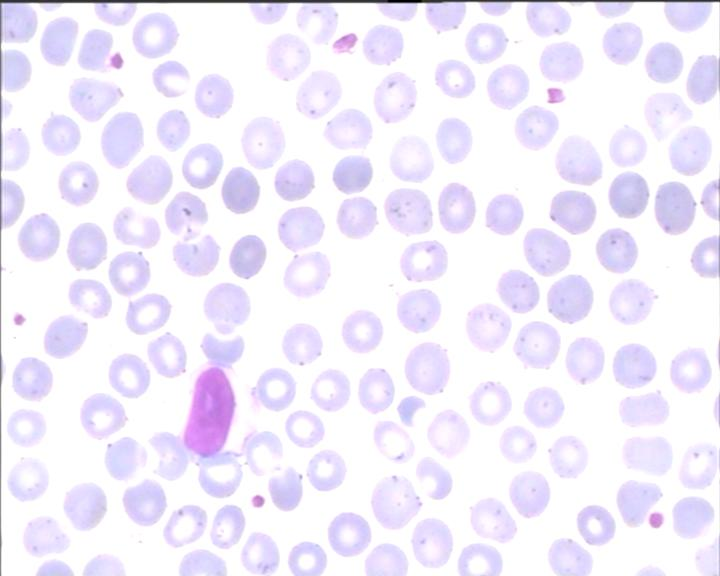mono: (177, 355, 266, 461)
